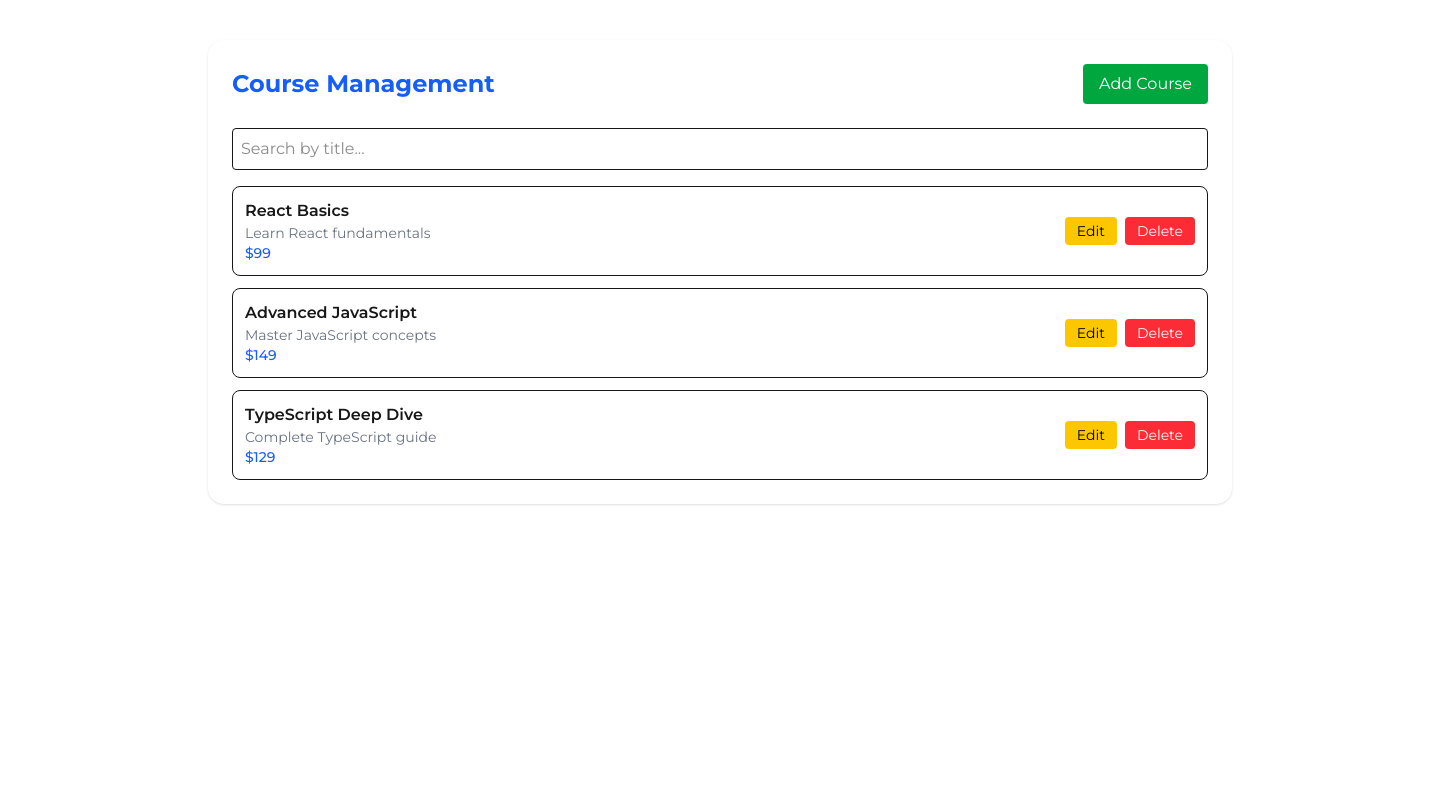
Scenario: CourseManagement Component › Modal Operations › should open modal with course data when 'Edit' is clicked
Expected: the text "React Basics" is shown, [245,201,349,220]
What coordinates should you click on to do the following:
click the button "Edit" in the row of "Learn React fundamentals"
I would click on:
 (1091, 231)
Its box is [1065,217,1117,245].
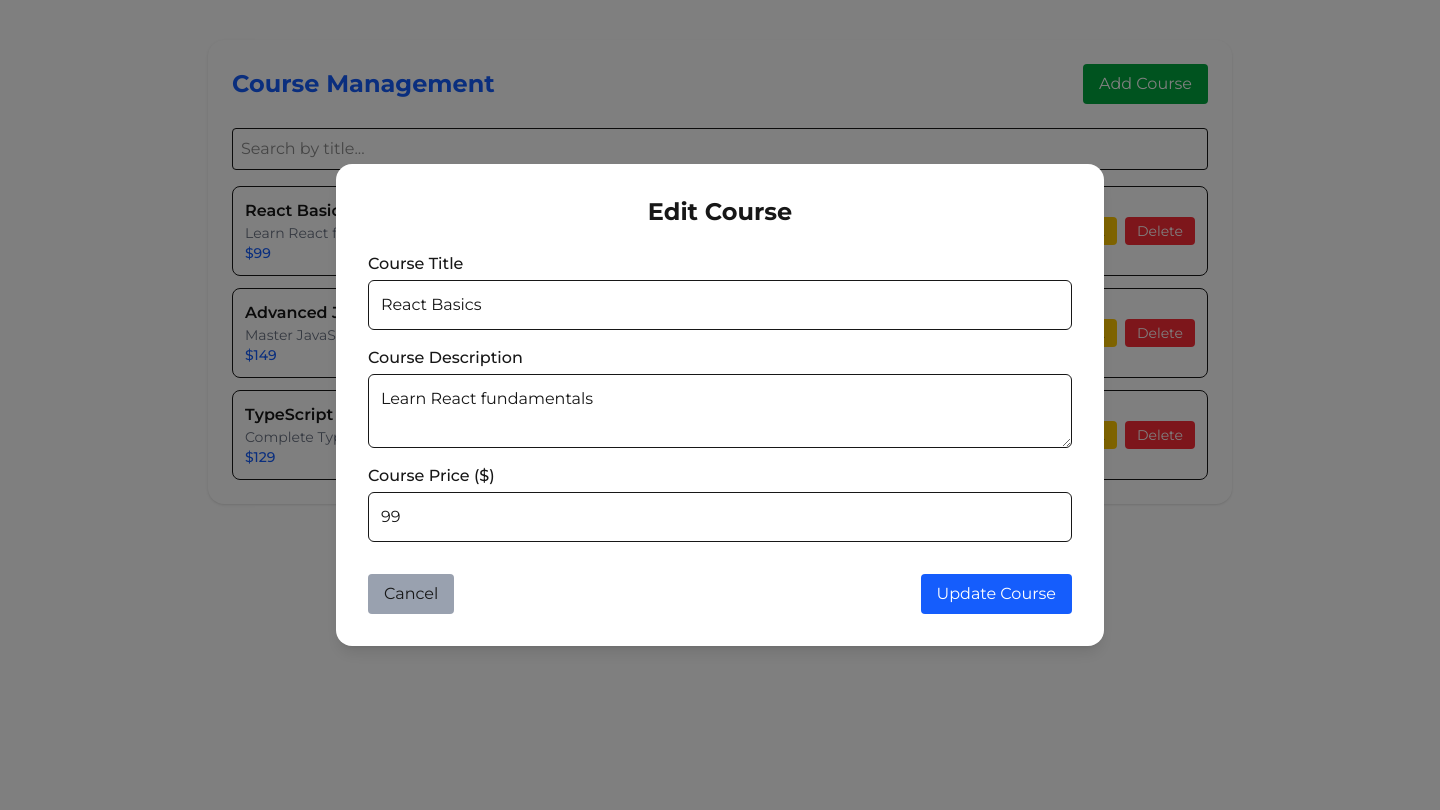
Result: the heading "Edit Course" is shown at [648,197,792,226]
Result: the field showing "React Basics" is shown at [368,280,1072,330]
Result: the text box showing "Learn React fundamentals" is shown at [368,374,1072,448]
